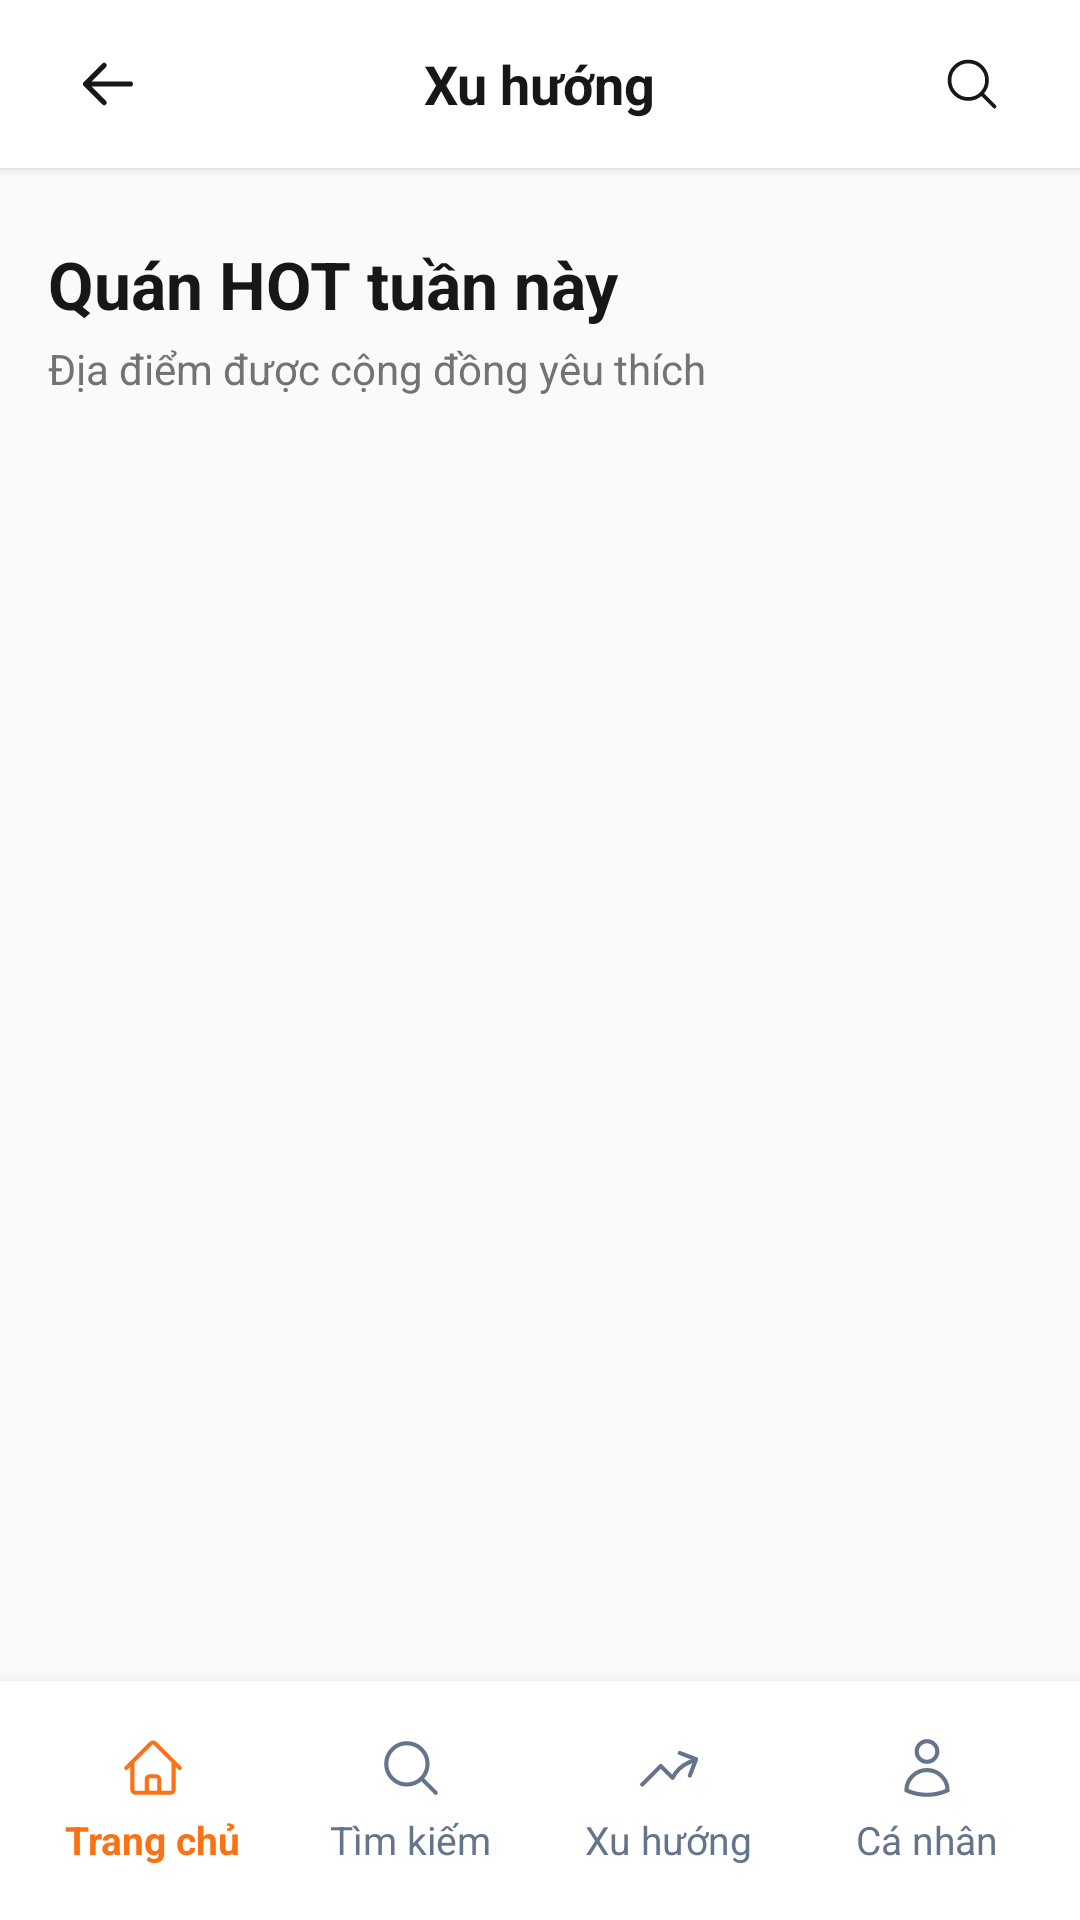

Named icons in this screenshot (1080px x 1920px) and their centers, [x,y]:
arrow left: [108,84]
